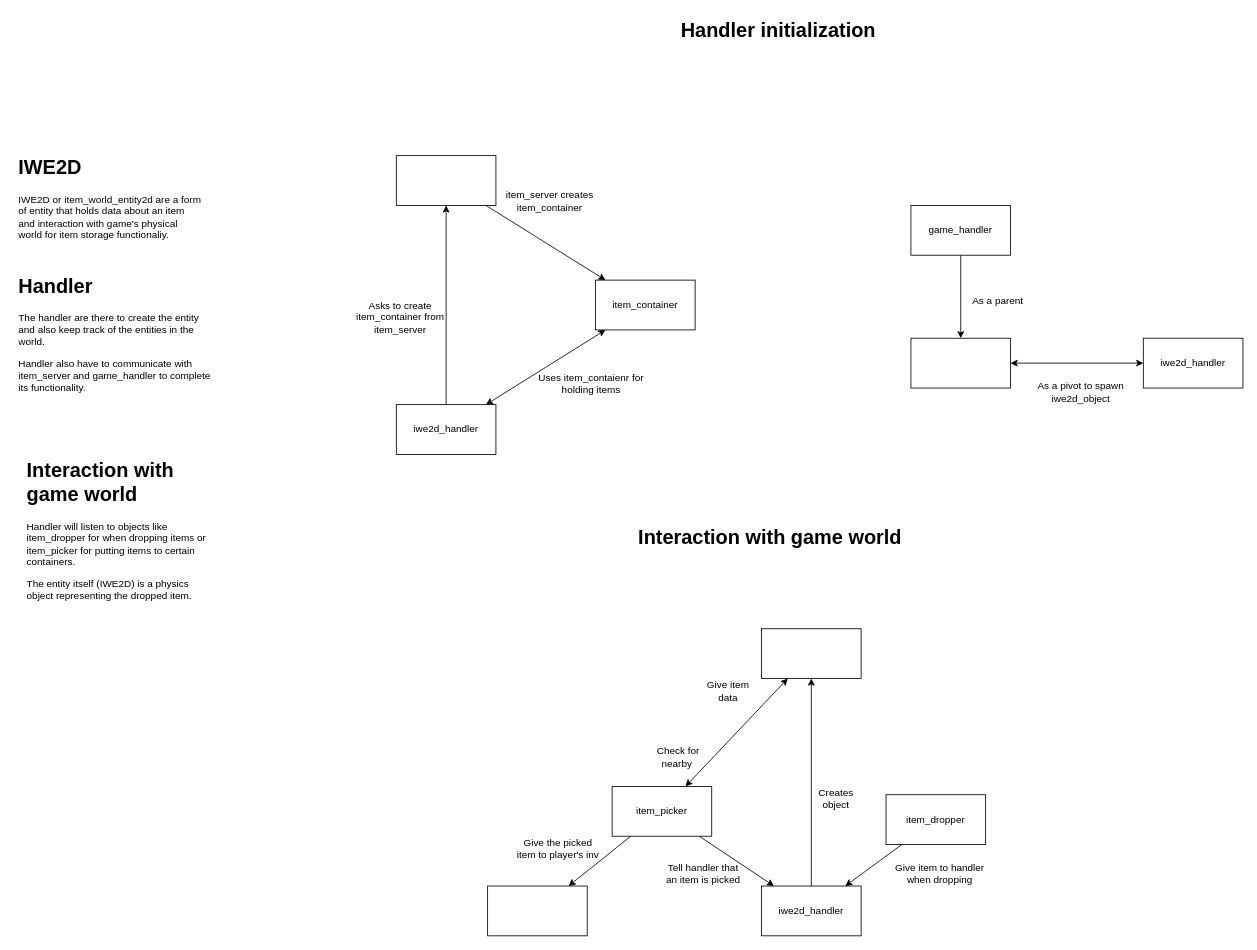
The diagram is 1257 pixels wide and 950 high, and some of its shapes have lost their labels. The centre of each missing label's shape, as x and y in pixels:
"item_container (player)" belongs at point 537,910.
"item_server" belongs at point 445,180.
"iwe2_object" belongs at point 811,653.
"pivot_node" belongs at point 960,362.
